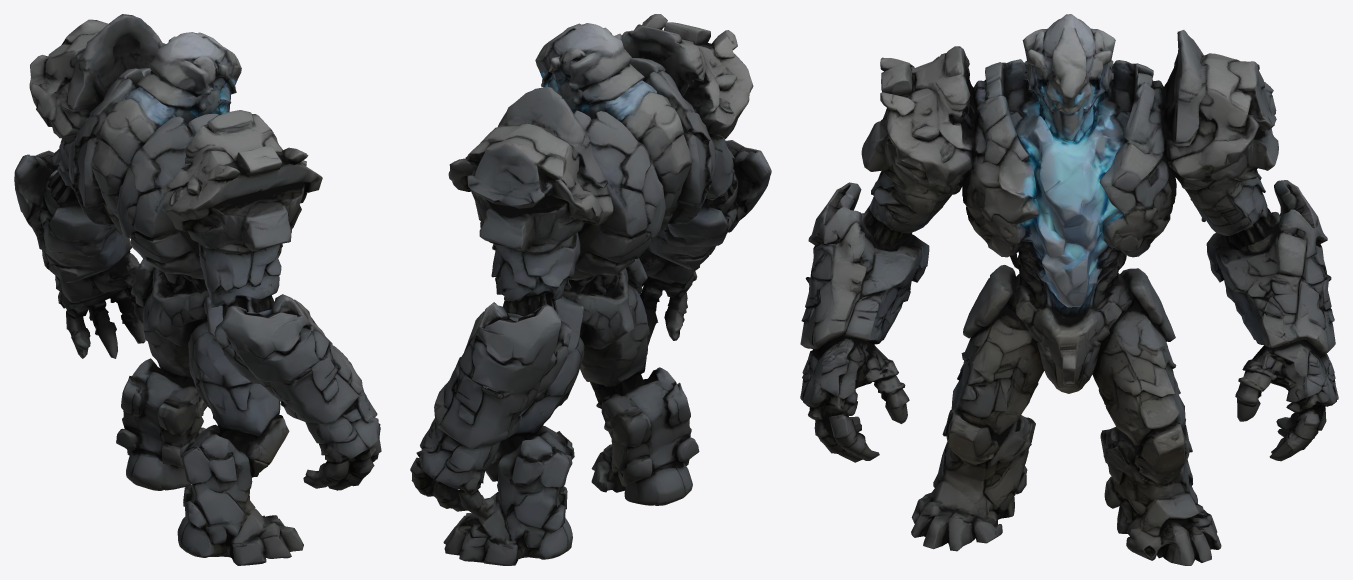
Rendered from grimspike.glb.
3 renders of one model, left to right at view 1: azimuth 30°, elevation 25°; view 2: azimuth 150°, elevation 25°; view 3: azimuth 270°, elevation 25°, orthographic. The views are drawn at different scales.
Parts seen in each view (by area): view 1: tripo_node_a23e0017-222b-4115-934b-e7e555859996; view 2: tripo_node_a23e0017-222b-4115-934b-e7e555859996; view 3: tripo_node_a23e0017-222b-4115-934b-e7e555859996.
Boxes of the visible parts, left/top/right/bottom form: tripo_node_a23e0017-222b-4115-934b-e7e555859996: left=14, top=14, right=381, bottom=565; tripo_node_a23e0017-222b-4115-934b-e7e555859996: left=410, top=14, right=771, bottom=565; tripo_node_a23e0017-222b-4115-934b-e7e555859996: left=800, top=14, right=1338, bottom=565.
Bounding box in the file's own units: 0.3898 × 1 × 0.9625.
Materials: 1 (1 with a texture image).
